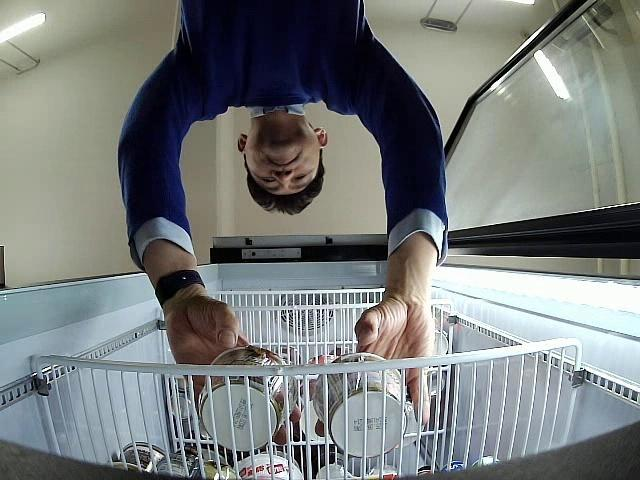04_chapagetti_S: (198, 344, 298, 452), (313, 354, 408, 459)
